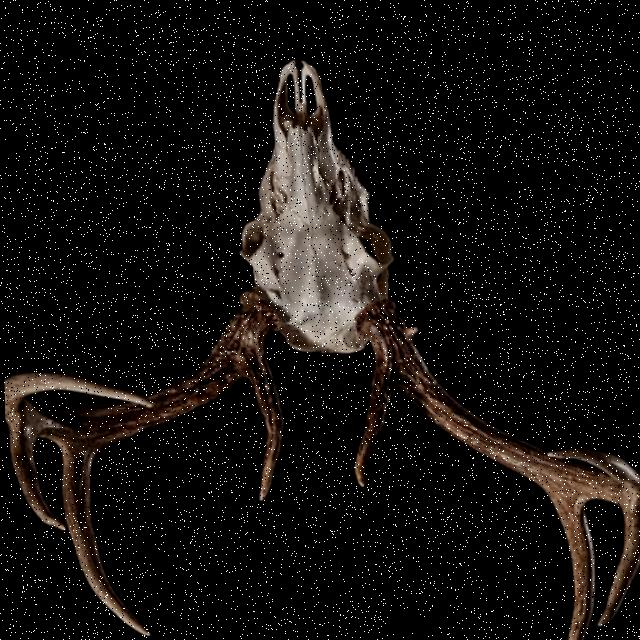L-F: (3, 283, 287, 444)
L-G1: (244, 343, 286, 498)
L-G2: (54, 443, 152, 635)
L-G3: (4, 421, 66, 531)
R-F: (352, 288, 640, 489)
R-G1: (352, 359, 393, 480)
R-G2: (540, 475, 596, 640)
R-G3: (595, 490, 640, 614)
